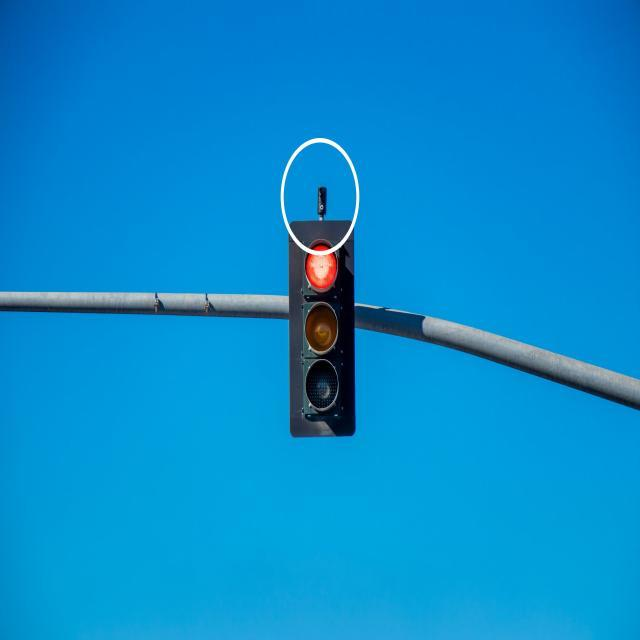suv: (288, 220, 356, 438)
